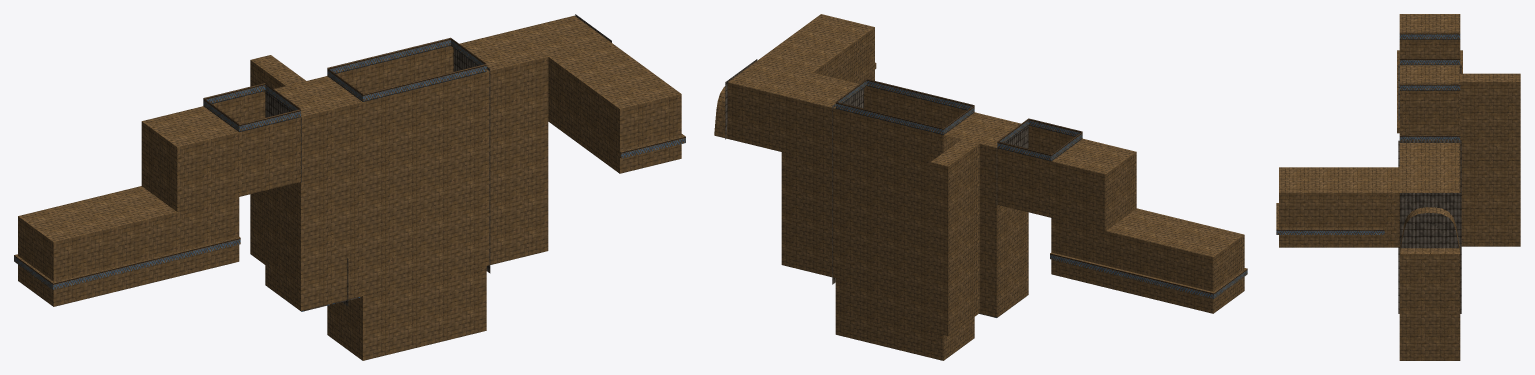
The model's file is heat.FBX.
The picture shows the model from 3 angles, left to right: view 1: azimuth 30°, elevation 25°; view 2: azimuth 150°, elevation 25°; view 3: azimuth 270°, elevation 25°; orthographic projection. The views are drawn at different scales.
Parts seen in each view (by area): view 1: heat, door3; view 2: heat, door3; view 3: heat, door4, door3, door1.
Boxes of the visible parts, x1,y1,x2,y2 form: heat: (14,15,685,360); door3: (453,48,490,273); heat: (714,14,1247,360); door3: (832,88,863,284); heat: (1276,14,1520,360); door4: (1399,193,1461,248); door3: (1398,140,1461,313); door1: (1398,64,1461,120).
Size of the model in its own units: 371 by 162 by 165.
